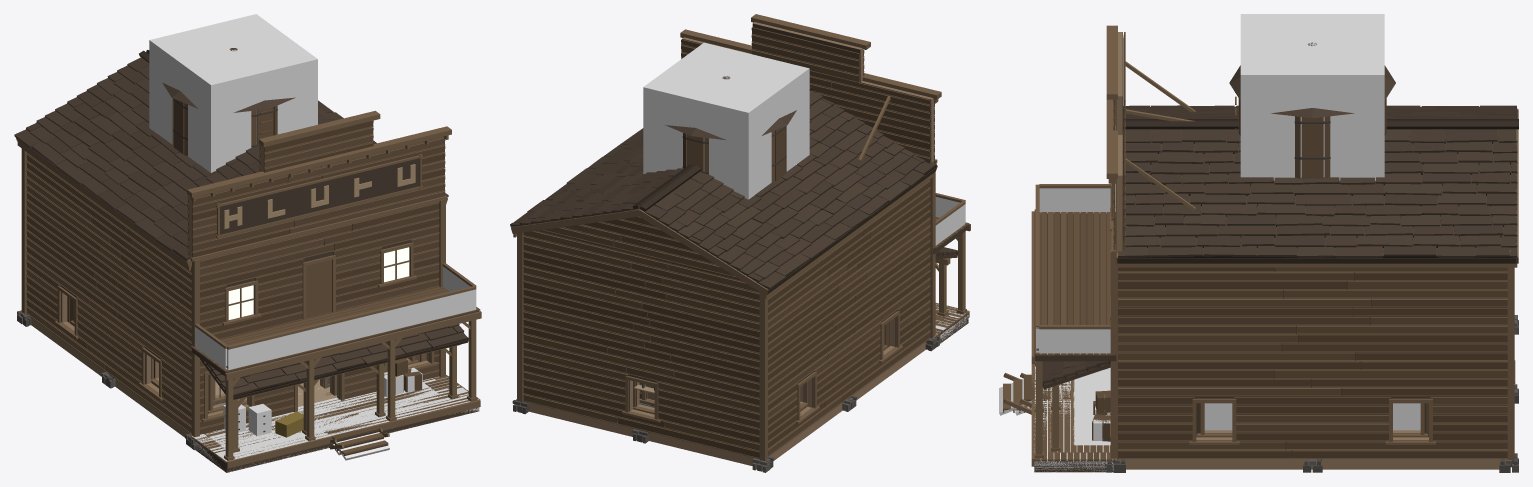
The model's file is towns.glb.
The picture shows the model from 3 angles, left to right: view 1: azimuth 30°, elevation 25°; view 2: azimuth 150°, elevation 25°; view 3: azimuth 270°, elevation 25°; orthographic projection. The views are drawn at different scales.
Parts seen in each view (by area): view 1: Saloon, WaterTowerCol, Store, SaloonCol, StoreCol, WaterTower, Sheriff, SheriffCol; view 2: Saloon, WaterTowerCol, WaterTower, Store, SaloonCol; view 3: Saloon, WaterTowerCol, SaloonCol, Store, WaterTower, StoreCol, SheriffCol.
Boxes of the visible parts, bbox=[...] form: Saloon: bbox=[14, 50, 481, 472]; WaterTowerCol: bbox=[149, 14, 317, 172]; Store: bbox=[67, 296, 468, 452]; SaloonCol: bbox=[192, 266, 479, 471]; StoreCol: bbox=[206, 367, 459, 455]; WaterTower: bbox=[162, 48, 295, 155]; Sheriff: bbox=[213, 377, 435, 442]; SheriffCol: bbox=[300, 382, 437, 410]; Saloon: bbox=[510, 14, 970, 472]; WaterTowerCol: bbox=[643, 42, 809, 199]; WaterTower: bbox=[665, 76, 796, 182]; Store: bbox=[633, 247, 957, 414]; SaloonCol: bbox=[930, 197, 968, 343]; Saloon: bbox=[1003, 25, 1518, 472]; WaterTowerCol: bbox=[1240, 14, 1384, 180]; SaloonCol: bbox=[999, 188, 1116, 472]; Store: bbox=[1019, 243, 1428, 452]; WaterTower: bbox=[1229, 42, 1395, 181]; StoreCol: bbox=[1015, 383, 1420, 452]; SheriffCol: bbox=[1073, 367, 1110, 445].
Bounding box in the file's own units: 10.9 × 12.1 × 15.88.
